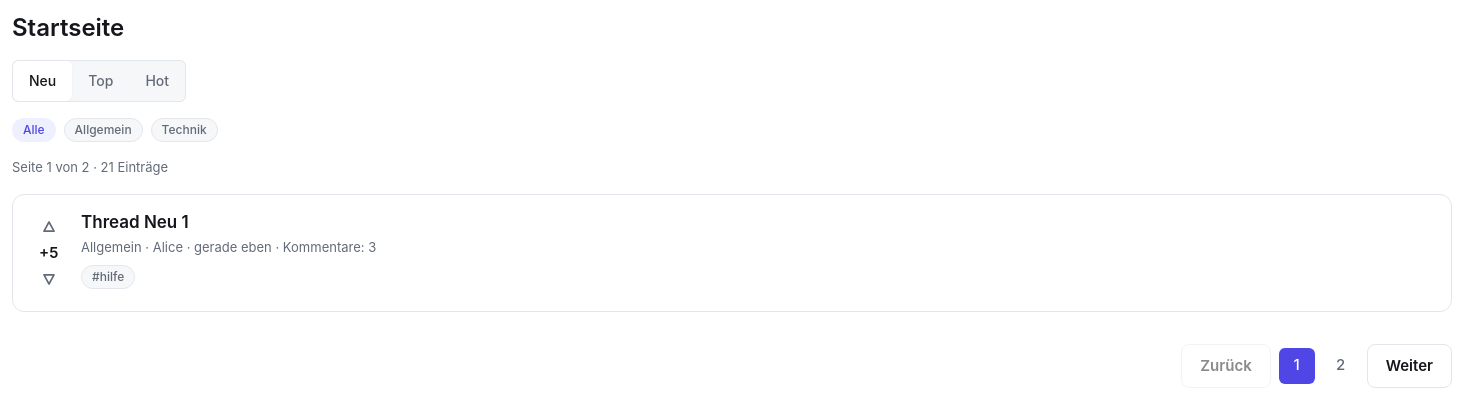
Test: forum feed › switching the sort re-queries the feed
Expected: the link "Thread Neu 1" is shown, [81,210,189,234]
Click the tab "Top": x=101, y=81 [72,61,129,101]
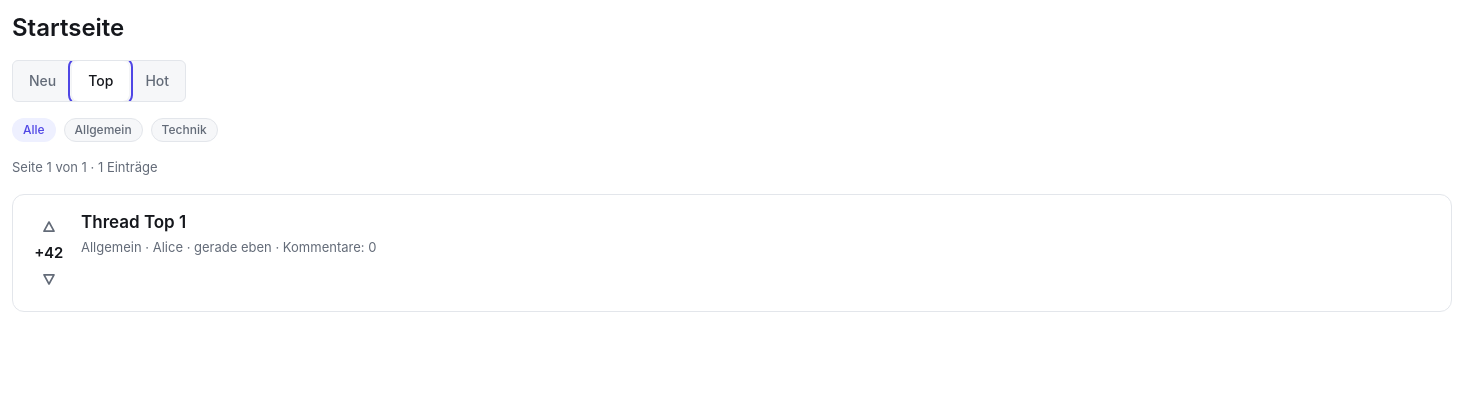
Expected: the link "Thread Top 1" is shown, [81,210,186,234]
Expected: the link "Thread Neu 1" is gone
